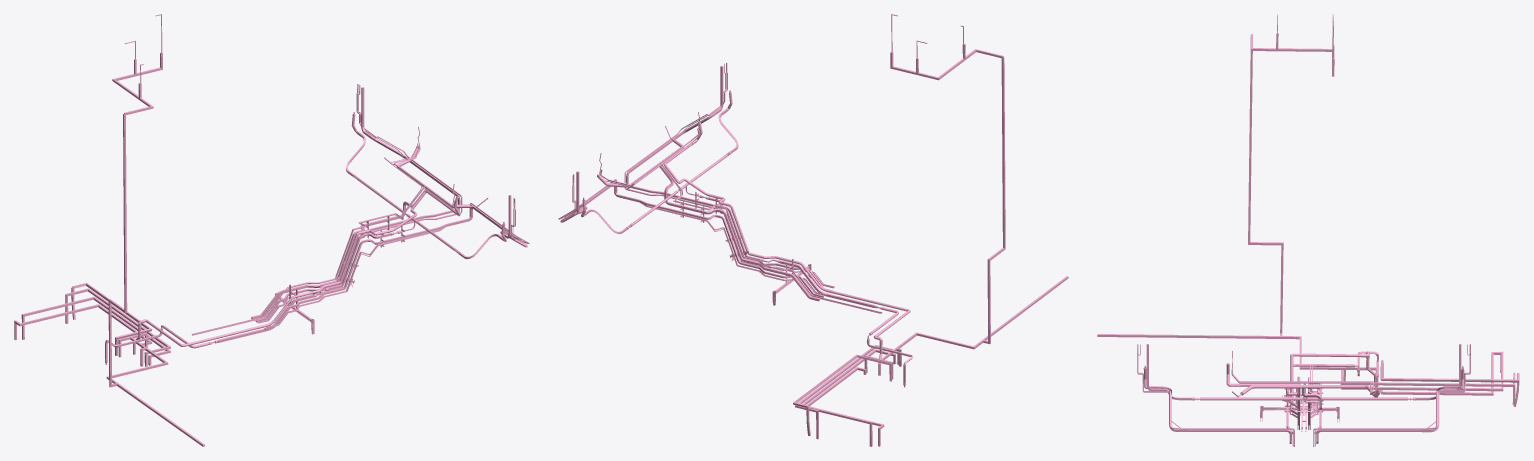
File: Serv-Z0-Sec11.glb
The picture shows the model from 3 angles, left to right: view 1: azimuth 30°, elevation 25°; view 2: azimuth 150°, elevation 25°; view 3: azimuth 270°, elevation 25°; orthographic projection. The views are drawn at different scales.
Visible parts, largest first — view 1: Serv-Z0-Sec11; view 2: Serv-Z0-Sec11; view 3: Serv-Z0-Sec11.
Boxes of the visible parts, <box> form: Serv-Z0-Sec11: <box>14,14,529,446</box>; Serv-Z0-Sec11: <box>558,14,1068,446</box>; Serv-Z0-Sec11: <box>1097,14,1519,446</box>.
Bounding box in the file's own units: 18.17 × 17.4 × 17.
